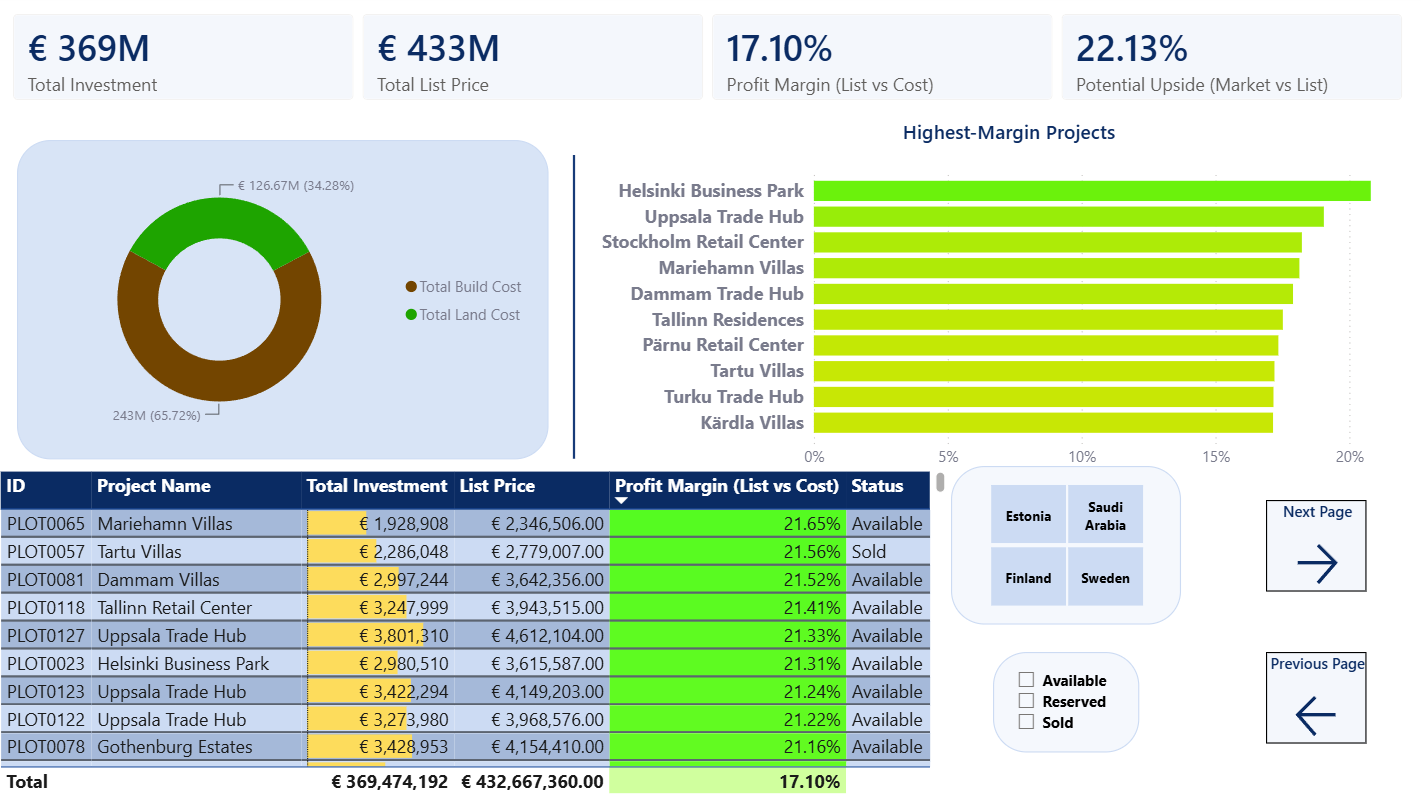

The dashboard page shown, as its layout file describes it:
{"tool":"powerbi","page":{"name":"Page 2 - Investment & Profitability","canvas":[1280,720],"ordinal":1},"visuals":[{"type":"shape","box":[325.1,143.3,388.7,272.2],"z":0},{"type":"cardVisual","fields":{"Data":["Fact_Plots.Total Investment","Fact_Plots.Total List Price","Fact_Plots.Profit Margin (List vs Cost)","Fact_Plots.Potential Upside (Market vs List)"]},"box":[0,0,1280,111],"z":1000},{"type":"donutChart","fields":{"Y":["Fact_Plots.Total Build Cost","Fact_Plots.Total Land Cost"]},"box":[20.6,129.9,476.4,285.7],"z":2000},{"type":"clusteredBarChart","title":"Highest-Margin Projects","fields":{"Category":["Dim_Project.project_name"],"Y":["Fact_Plots.Profit Margin (List vs Cost)"]},"box":[538.2,110.1,741.5,321.5],"z":3000},{"type":"tableEx","fields":{"Values":["Fact_Plots.plot_id","Dim_Project.project_name","Fact_Plots.Total Investment","Sum(Fact_Plots.list_price)","Fact_Plots.Profit Margin (List vs Cost)","Fact_Plots.sale_status"]},"box":[0,422.1,856.8,297.8],"z":4000},{"type":"slicer","fields":{"Values":["Fact_Plots.country"]},"box":[857,421.8,206,142.4],"z":5000},{"type":"actionButton","title":"Next Page","box":[1139.1,452.2,90.5,81.7],"z":6000},{"type":"slicer","fields":{"Values":["Fact_Plots.sale_status"]},"box":[894.6,588.4,130.7,90.4],"z":7000},{"type":"actionButton","title":"Previous Page","box":[1139.1,588.4,90.5,81.7],"z":8000}]}

Visuals, with their boxes in screenshot pixels (x1, y1, x2, y2), scaled from the page's 1280x720 canvas onto the 1421x795 screenshot:
shape: (left=361, top=158, right=792, bottom=459)
cardVisual - Fact_Plots.Total Investment x Fact_Plots.Total List Price: (left=0, top=0, right=1420, bottom=123)
donutChart - Fact_Plots.Total Build Cost x Fact_Plots.Total Land Cost: (left=23, top=143, right=552, bottom=459)
"Highest-Margin Projects" clusteredBarChart: (left=597, top=122, right=1420, bottom=477)
tableEx - Fact_Plots.plot_id x Dim_Project.project_name: (left=0, top=466, right=951, bottom=794)
slicer - Fact_Plots.country: (left=951, top=466, right=1180, bottom=623)
"Next Page" actionButton: (left=1265, top=499, right=1365, bottom=590)
slicer - Fact_Plots.sale_status: (left=993, top=650, right=1138, bottom=750)
"Previous Page" actionButton: (left=1265, top=650, right=1365, bottom=740)
